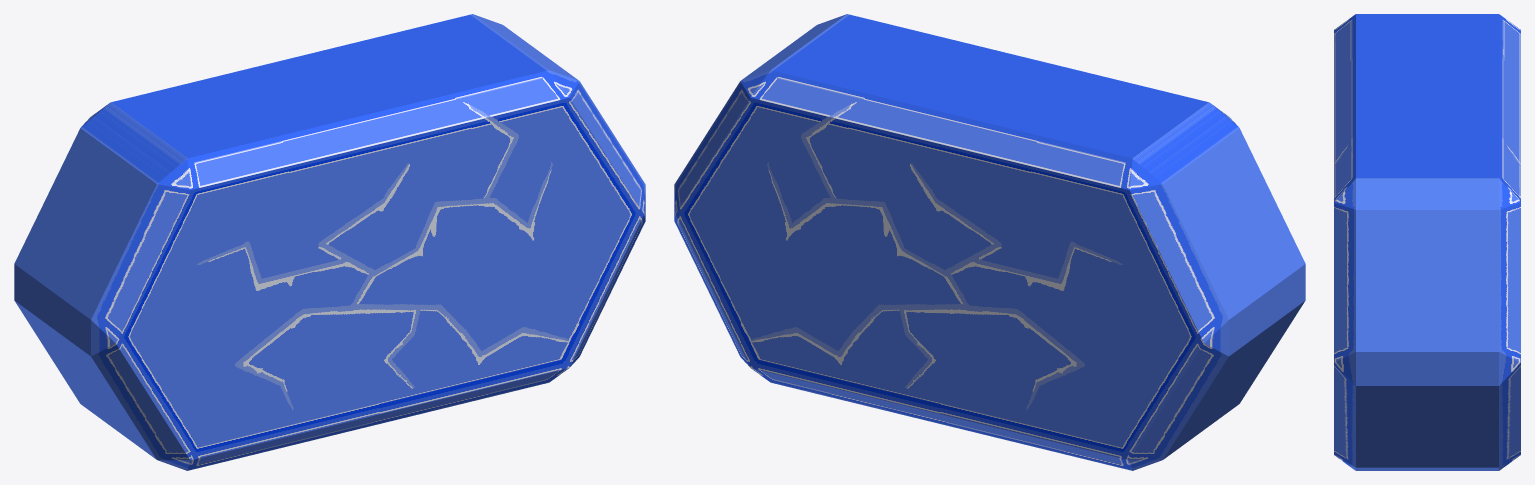
File: iceblock.fbx
3 views of the same model, side by side, from view 1: azimuth 30°, elevation 25°; view 2: azimuth 150°, elevation 25°; view 3: azimuth 270°, elevation 25° (orthographic). The views are drawn at different scales.
Visible parts, largest first — view 1: Cylinder.005; view 2: Cylinder.005; view 3: Cylinder.005.
Boxes of the visible parts, x1,y1,x2,y2 form: Cylinder.005: [14, 14, 645, 470]; Cylinder.005: [674, 14, 1305, 470]; Cylinder.005: [1334, 14, 1520, 470].
Size of the model in its own units: 412 by 222 by 129.
1 material, 1 textured.
